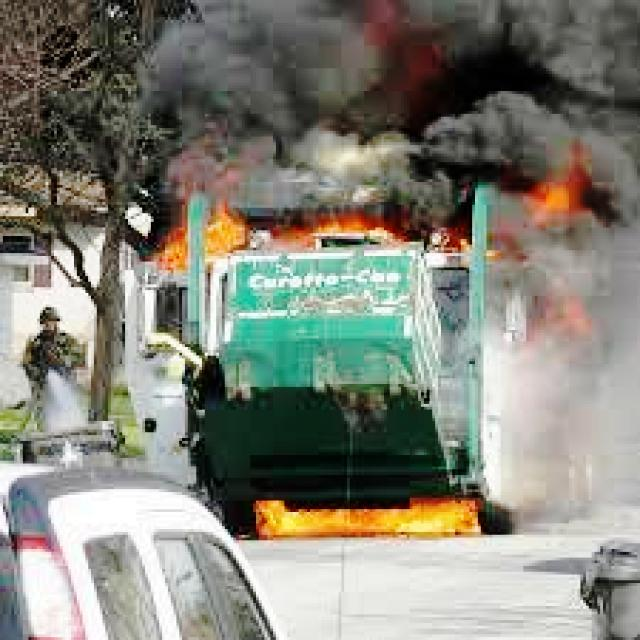api: (507, 141, 624, 357), (300, 186, 513, 280), (237, 473, 496, 550), (155, 192, 254, 286)
